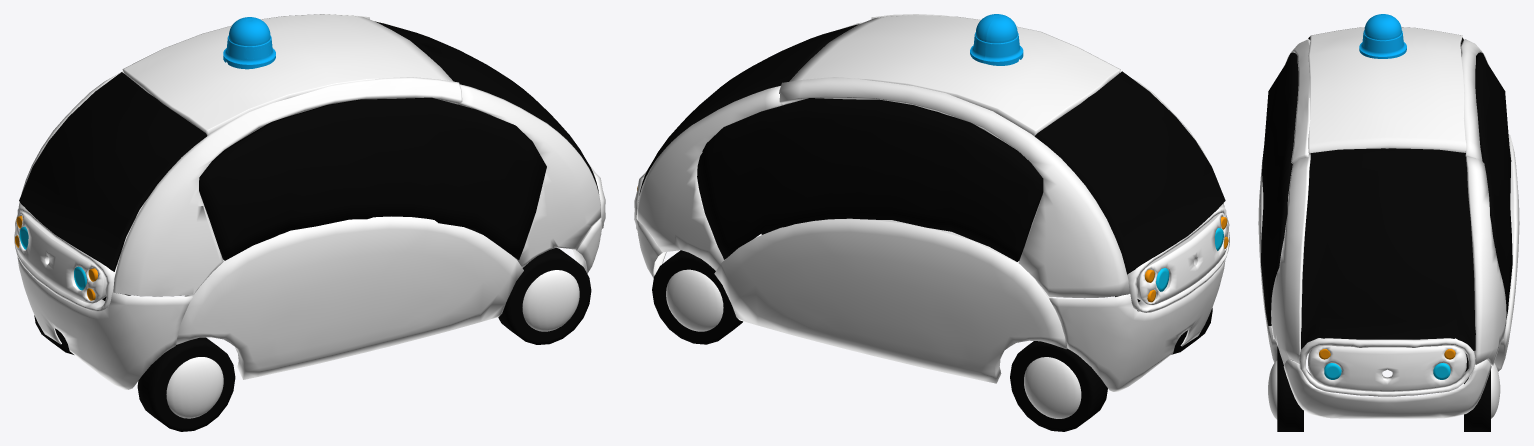
Rendered from milee.dae.
The picture shows the model from 3 angles, left to right: view 1: azimuth 30°, elevation 25°; view 2: azimuth 150°, elevation 25°; view 3: azimuth 270°, elevation 25°; orthographic projection. The views are drawn at different scales.
Visible parts, largest first — view 1: milley; view 2: milley; view 3: milley.
Part boxes in pixels (box(x1,y1,x2,y2)): milley: box(14, 14, 605, 431); milley: box(634, 14, 1229, 431); milley: box(1258, 14, 1519, 431).
Size of the model in its own units: 2.29 by 1.08 by 1.4.
